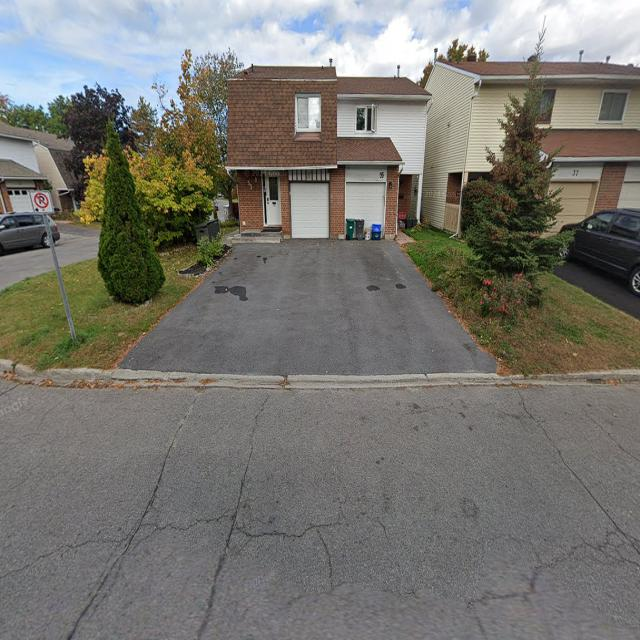Door: (261, 175, 283, 228)
curb: (0, 358, 636, 394)
obstacle: (99, 119, 170, 300), (193, 217, 227, 266)
walkways: (116, 241, 502, 370)
